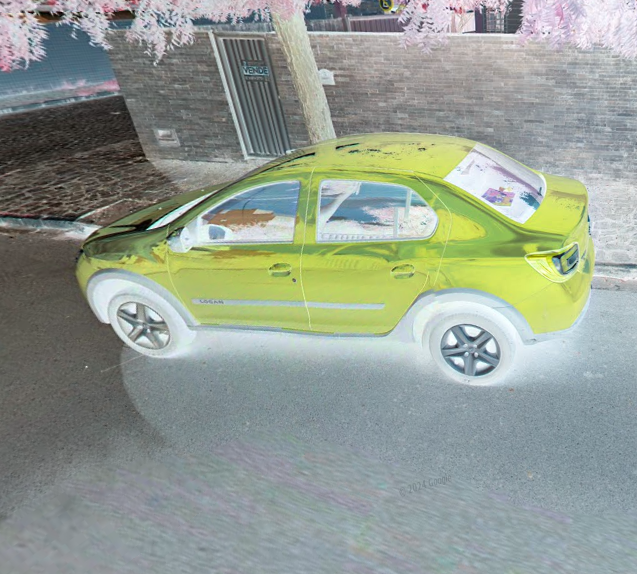car: (74, 129, 597, 390)
